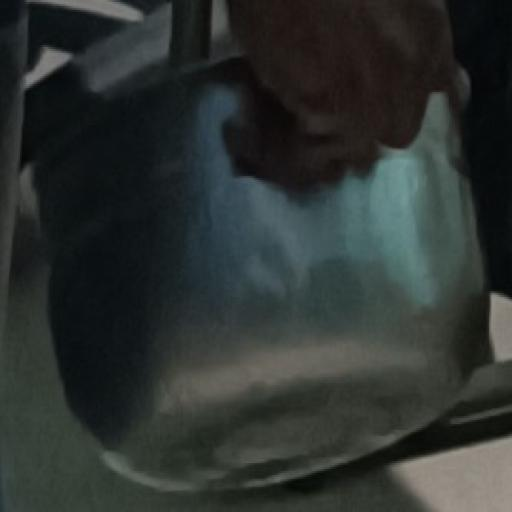vessel: (35, 57, 489, 491)
